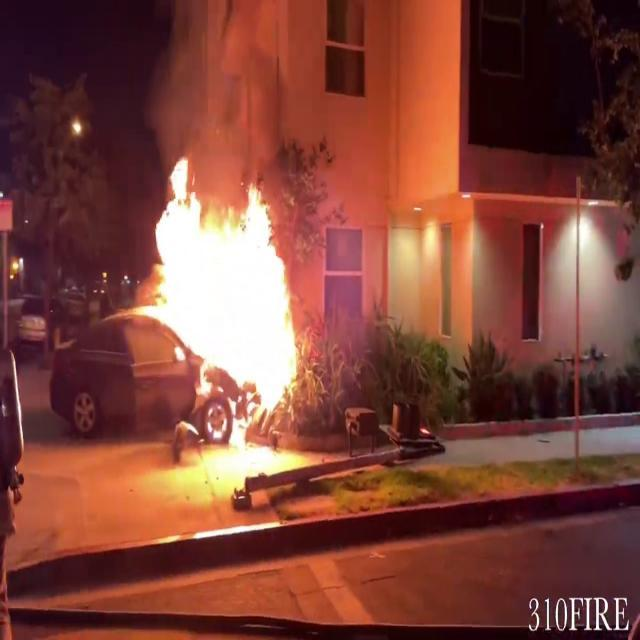Fire: (126, 152, 314, 440)
